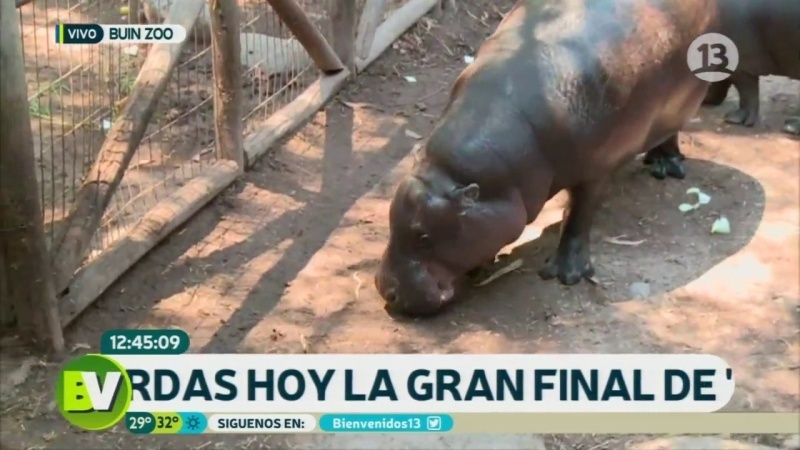hipopotamo: (358, 1, 728, 319)
